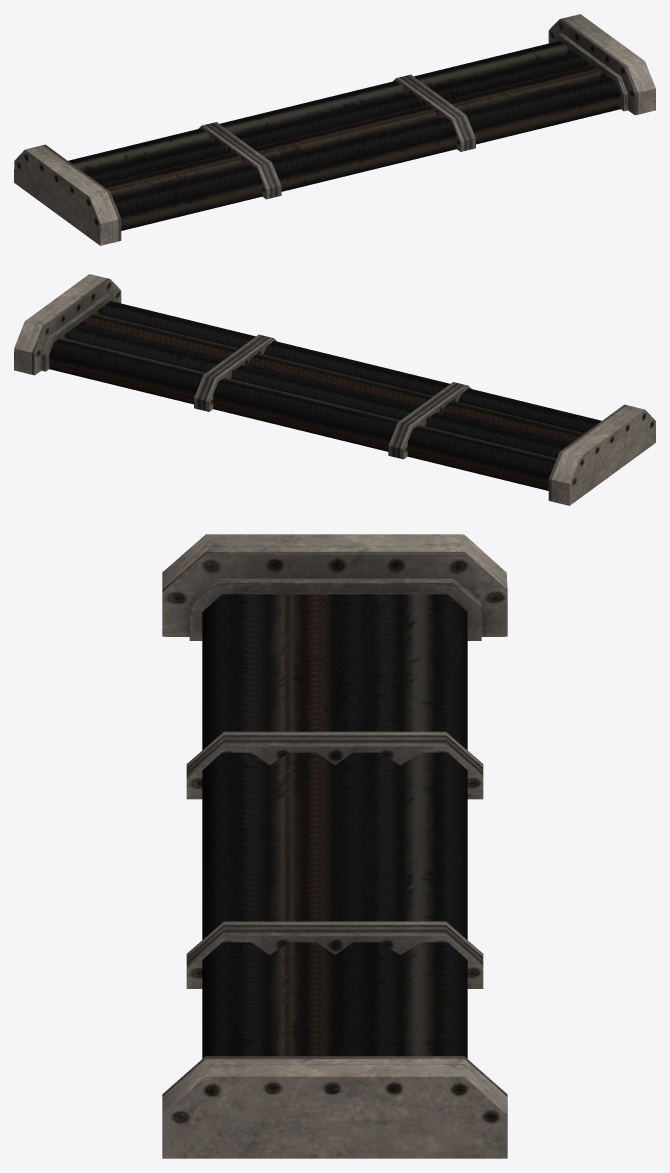
The model's file is cables_wall_short_white.dae.
The picture shows the model from 3 angles, top to bottom: view 1: azimuth 30°, elevation 25°; view 2: azimuth 150°, elevation 25°; view 3: azimuth 270°, elevation 25°; orthographic projection. The views are drawn at different scales.
Visible parts, largest first — view 1: polySurface827; view 2: polySurface827; view 3: polySurface827.
Boxes of the visible parts, bbox=[...] form: polySurface827: bbox=[14, 14, 655, 245]; polySurface827: bbox=[14, 274, 655, 505]; polySurface827: bbox=[162, 534, 507, 1158].
Bounding box in the file's own units: 2 × 0.1413 × 0.5389.
